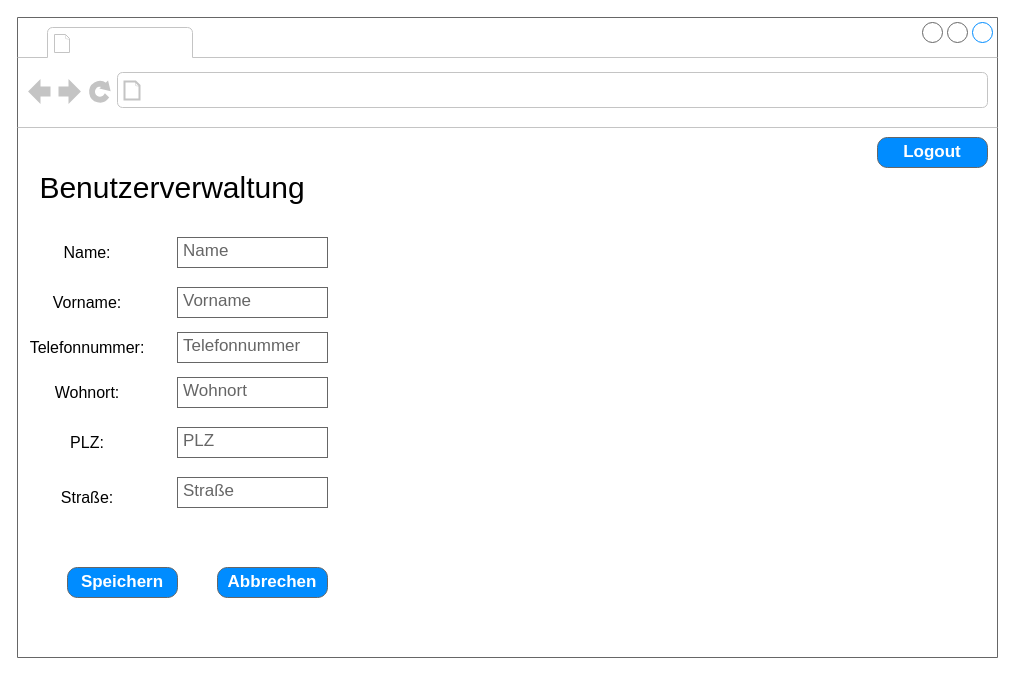
The diagram is 1015 pixels wide and 675 high, and some of its shapes have lost their labels. The box of each missing label's shape, as (x1, y1, x2, y2) in pixels:
https://www.draw.io: (146, 76, 398, 104)
Page 1: (76, 28, 188, 56)
